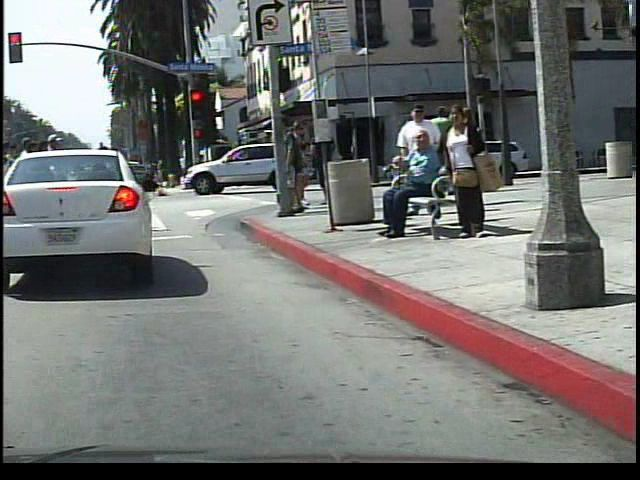person: (432, 100, 490, 238), (376, 131, 446, 243), (283, 118, 325, 210), (184, 147, 209, 198)
